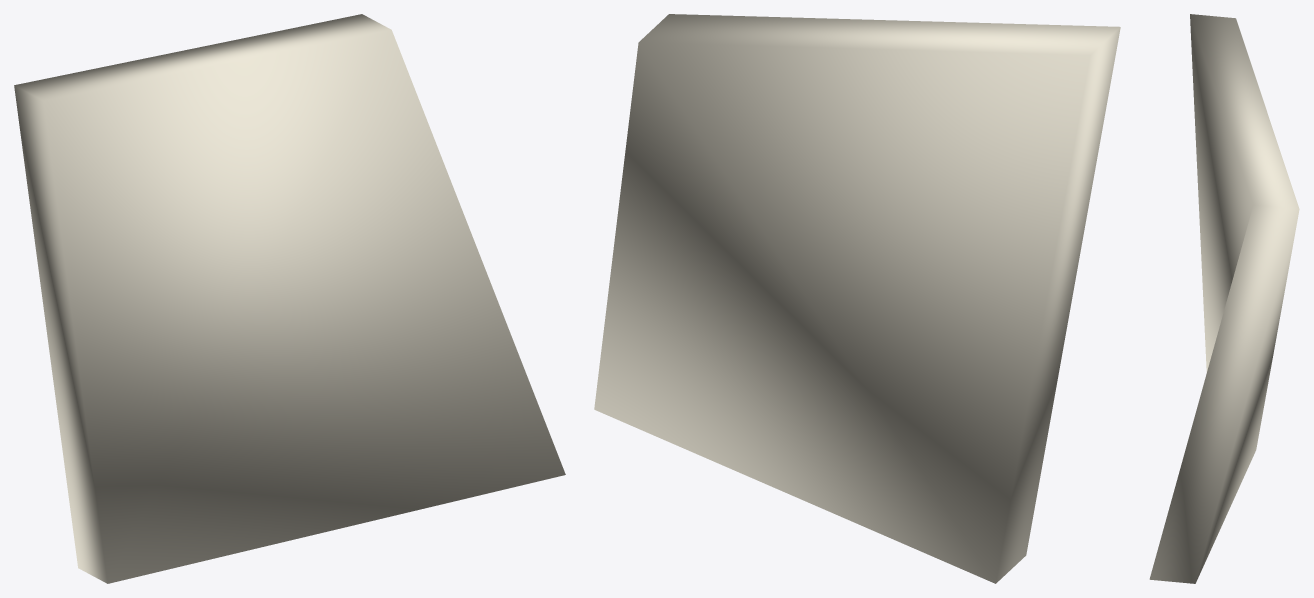
3 renders of one model, left to right at view 1: azimuth 30°, elevation 25°; view 2: azimuth 150°, elevation 25°; view 3: azimuth 270°, elevation 25°, orthographic. The views are drawn at different scales.
Visible parts, largest first — view 1: ZA_07b0b221a0934adb; view 2: ZA_07b0b221a0934adb; view 3: ZA_07b0b221a0934adb.
Part boxes in pixels (x1=…): ZA_07b0b221a0934adb: x1=14, y1=14, x2=565, y2=583; ZA_07b0b221a0934adb: x1=594, y1=14, x2=1120, y2=583; ZA_07b0b221a0934adb: x1=1149, y1=14, x2=1299, y2=583.
Size of the model in its own units: 0.00487 by 0.00484 by 0.00162.
